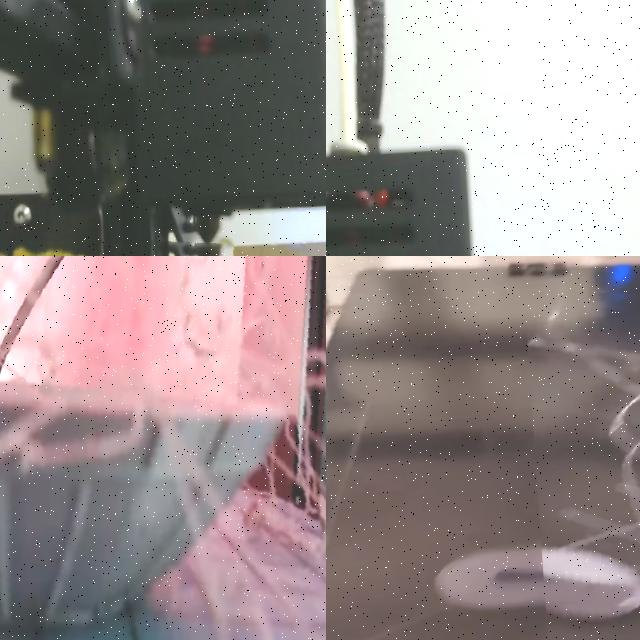spaghetti: (0, 256, 326, 640), (523, 265, 640, 640)
